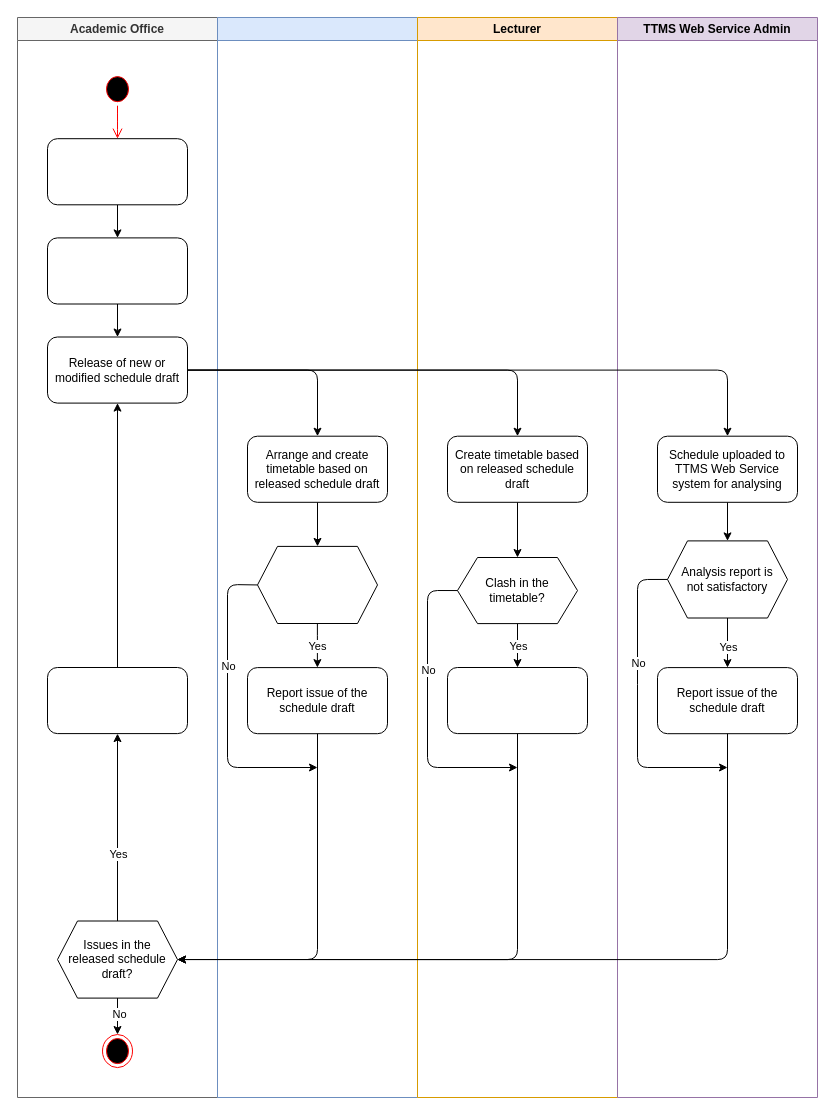
Image size: 835x1115. Some labels were removed from this diagram. The shapes that lost their labels are listed below. From the top down, each one's box as (x1, y1, x2, y2) in pixels, then its label:
(46, 138, 188, 205): Obtain a list of lecturers, courses to arrange, and venues
(46, 237, 188, 304): Arrange the timetable manually in Google Sheets
(216, 16, 418, 1098): Student
(256, 545, 378, 624): Found inevitable clash in the schedule?
(46, 666, 188, 734): Modify the schedule to fix issues
(446, 666, 588, 734): Notify issue to academic office
